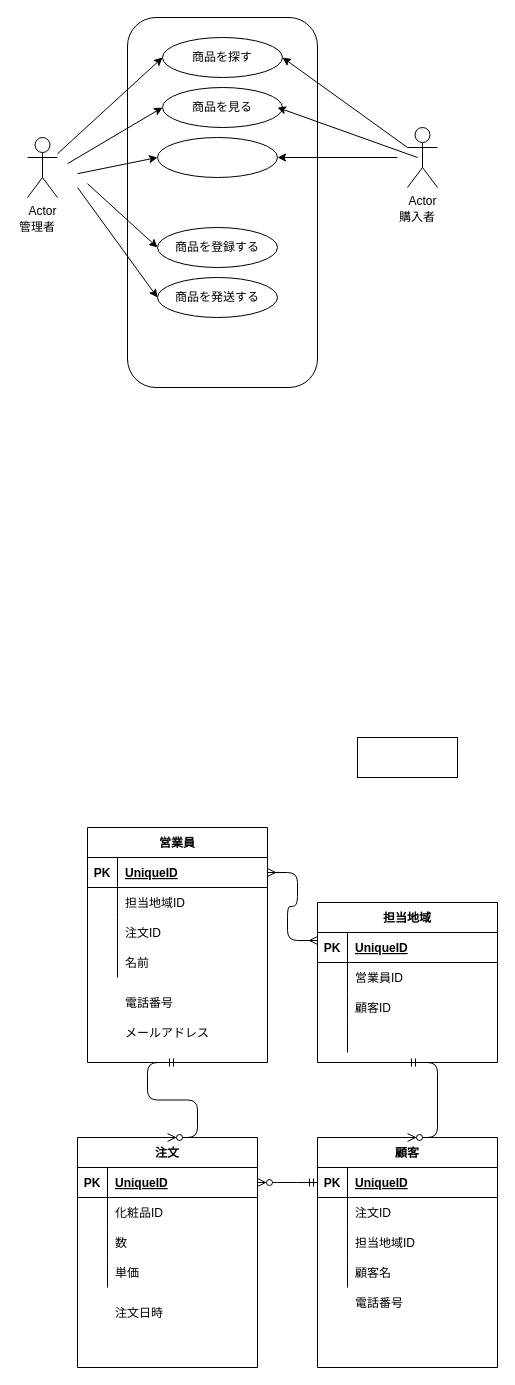
The diagram is 515 pixels wide and 1385 high, and some of its shapes have lost their labels. The centre of each missing label's shape, as x and y in pixels:
商品を買う: [217,157]
担当地域名とIDのリスト: [407,757]
